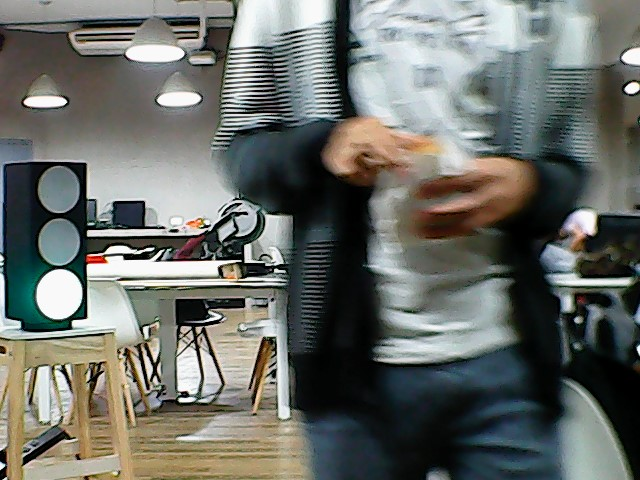verde: (1, 154, 97, 332)
